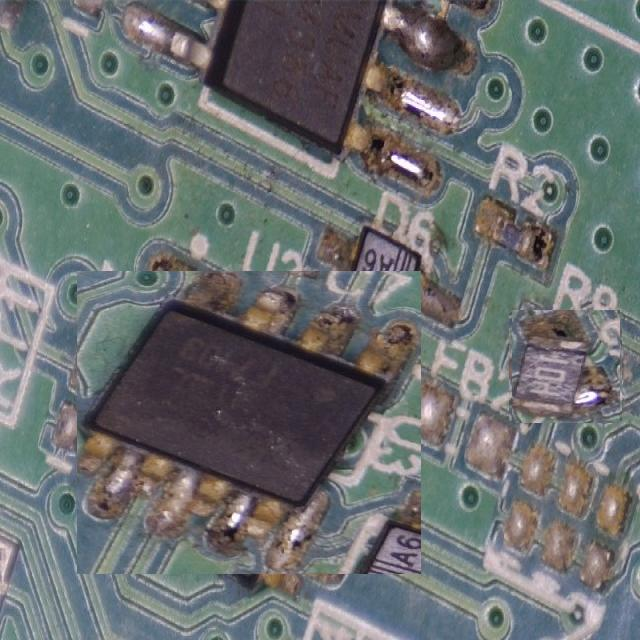Incorrect_installation: (77, 271, 420, 574), (511, 310, 620, 423)
